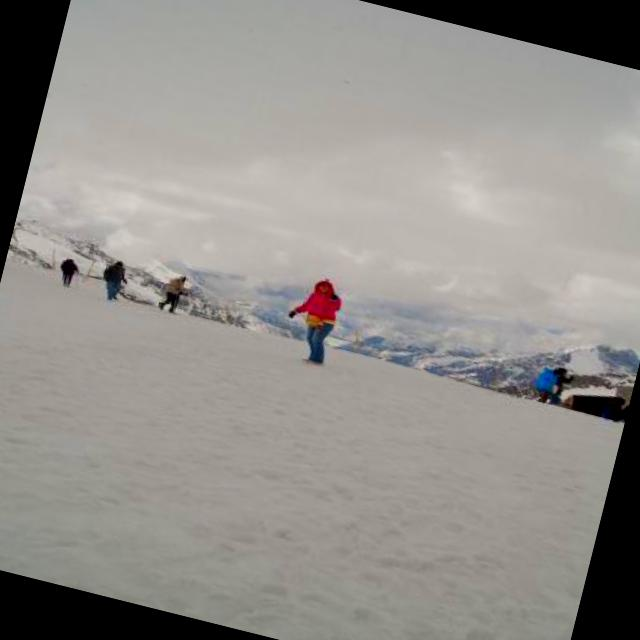Person: (278, 268, 352, 366), (525, 358, 578, 408), (92, 250, 138, 300), (154, 266, 196, 317), (50, 253, 82, 286)
